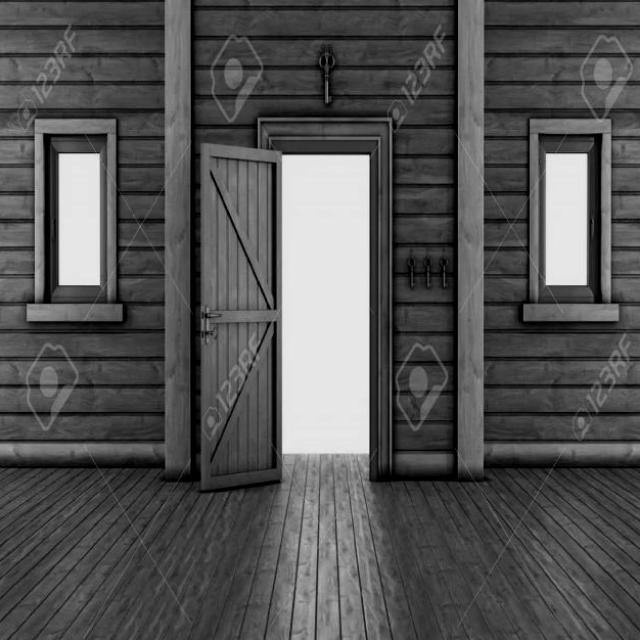door: (197, 141, 283, 491)
